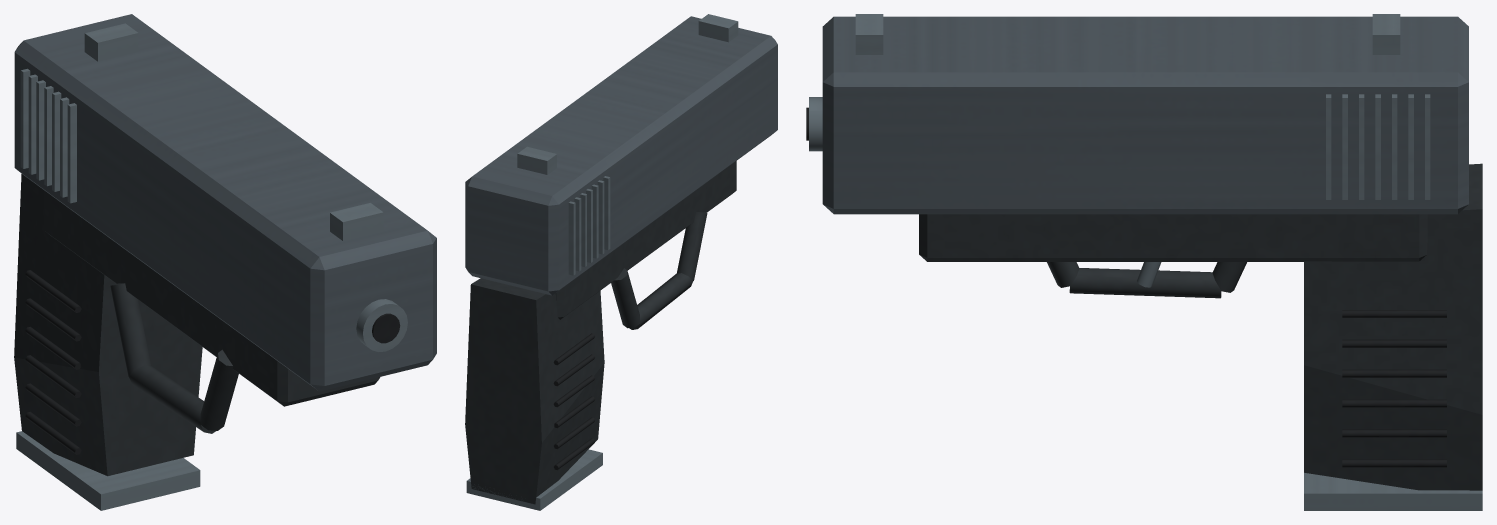
Rendered from compact-pistol.glb.
3 renders of one model, left to right at view 1: azimuth 30°, elevation 25°; view 2: azimuth 150°, elevation 25°; view 3: azimuth 270°, elevation 25°, orthographic. The views are drawn at different scales.
Visible parts, largest first — view 1: compact-pistol; view 2: compact-pistol; view 3: compact-pistol.
Part boxes in pixels (bbox=[...]): compact-pistol: bbox=[14, 14, 436, 510]; compact-pistol: bbox=[465, 14, 777, 510]; compact-pistol: bbox=[806, 14, 1482, 510].
Bounding box in the file's own units: 0.062 × 0.185 × 0.246.
Materials: 4 (4 with a texture image).
